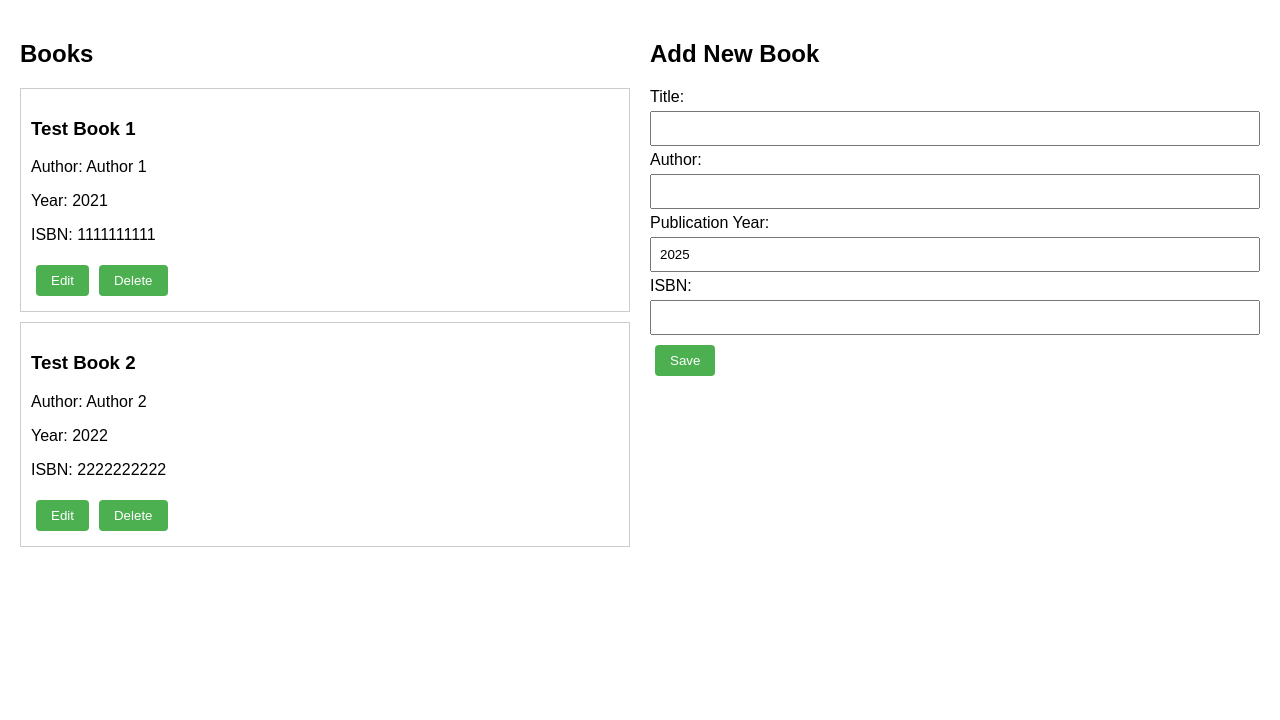
Test case: App › switches between add and edit modes
Check: the heading "Test Book 1" is shown, box [31,118,136,138]
Check: the heading "Add New Book" is shown, box [650,40,819,67]
What coordinates should you click on to do the following:
click the button "Edit" below "1111111111"
I would click on:
 (62, 281)
Its box is [36,265,89,296].
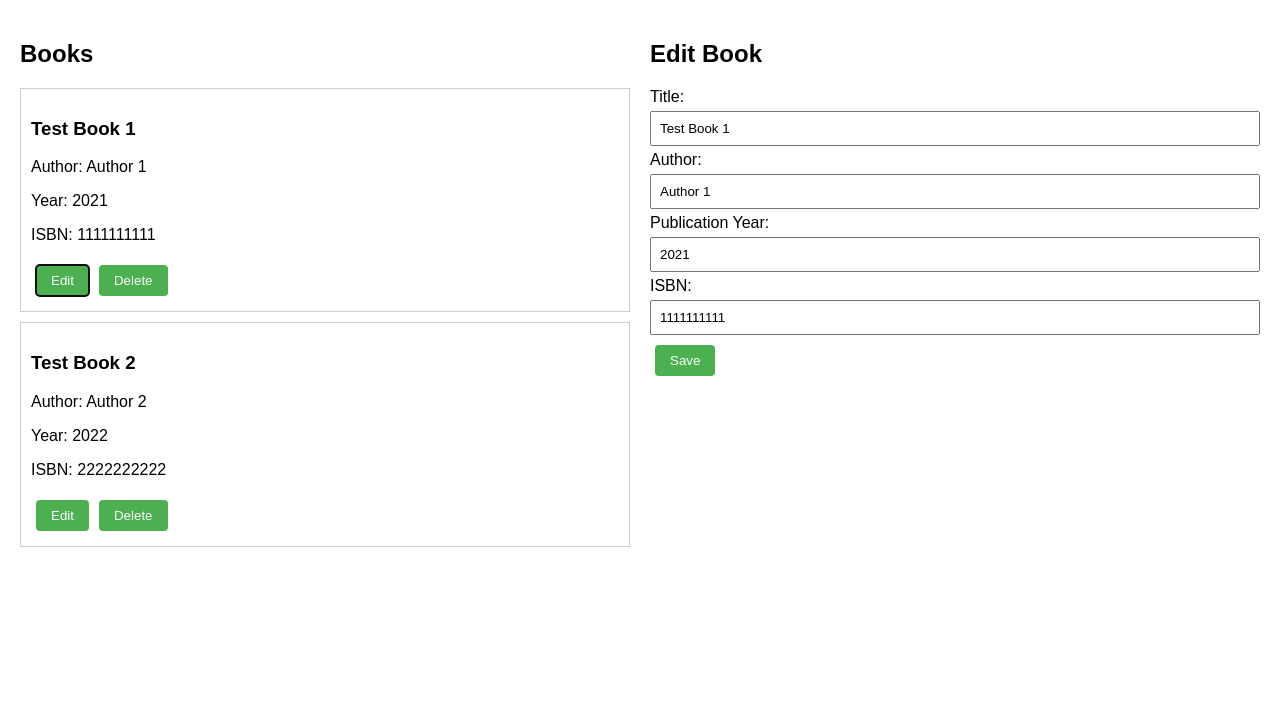
Check: the heading "Edit Book" is shown, box [650,40,762,67]
What coordinates should you click on to do the following:
click the button "Save"
I would click on:
 (685, 360)
Its box is [655,345,715,376].
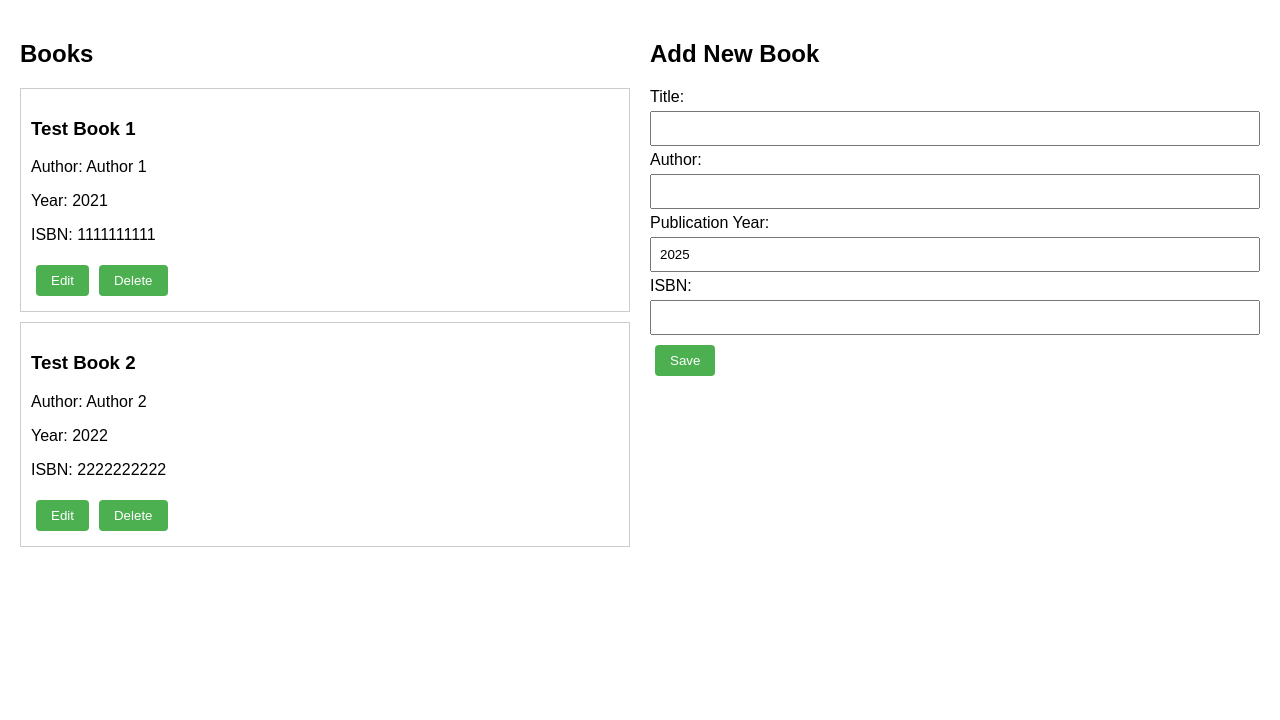
Check: the heading "Add New Book" is shown, box [650,40,819,67]
